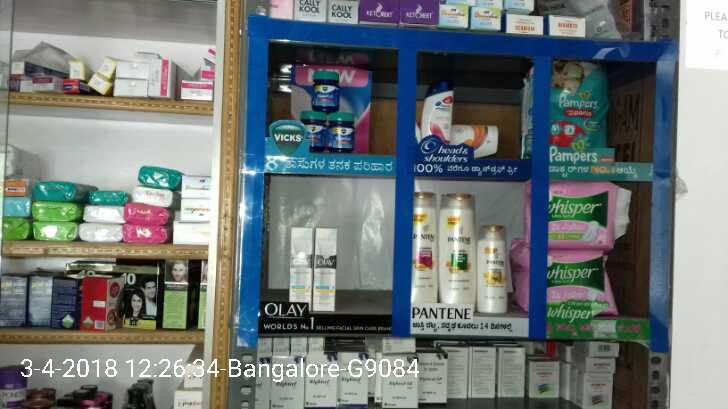vicks: (298, 66, 357, 155)
